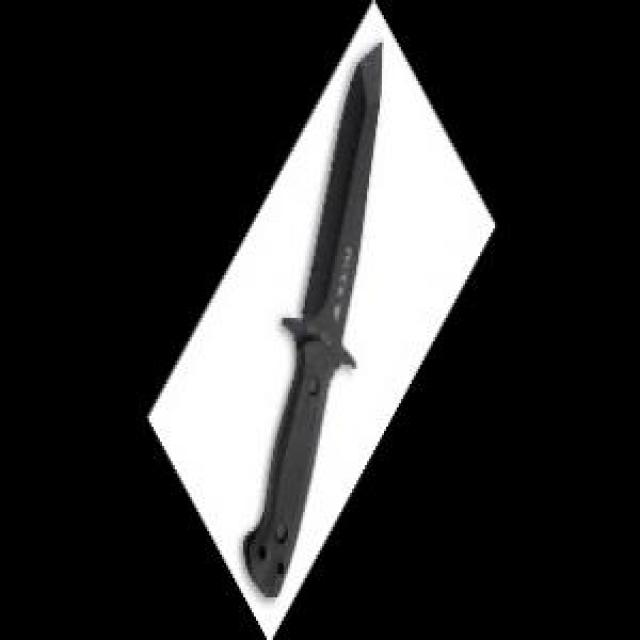knife: (239, 30, 389, 605)
